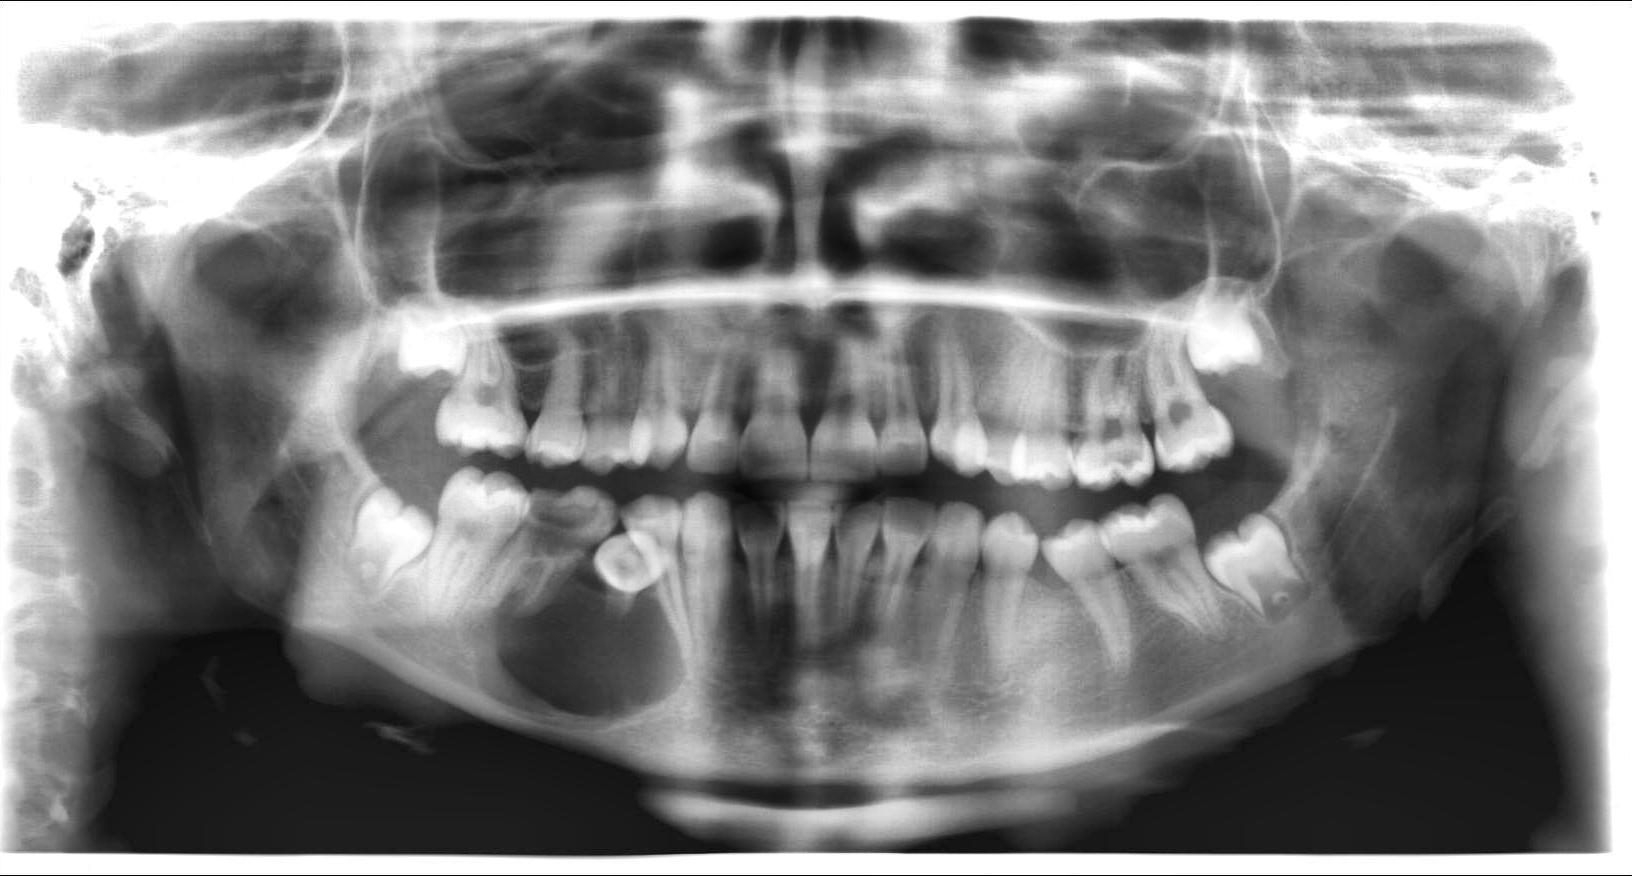radikuler: (461, 574, 686, 731)
